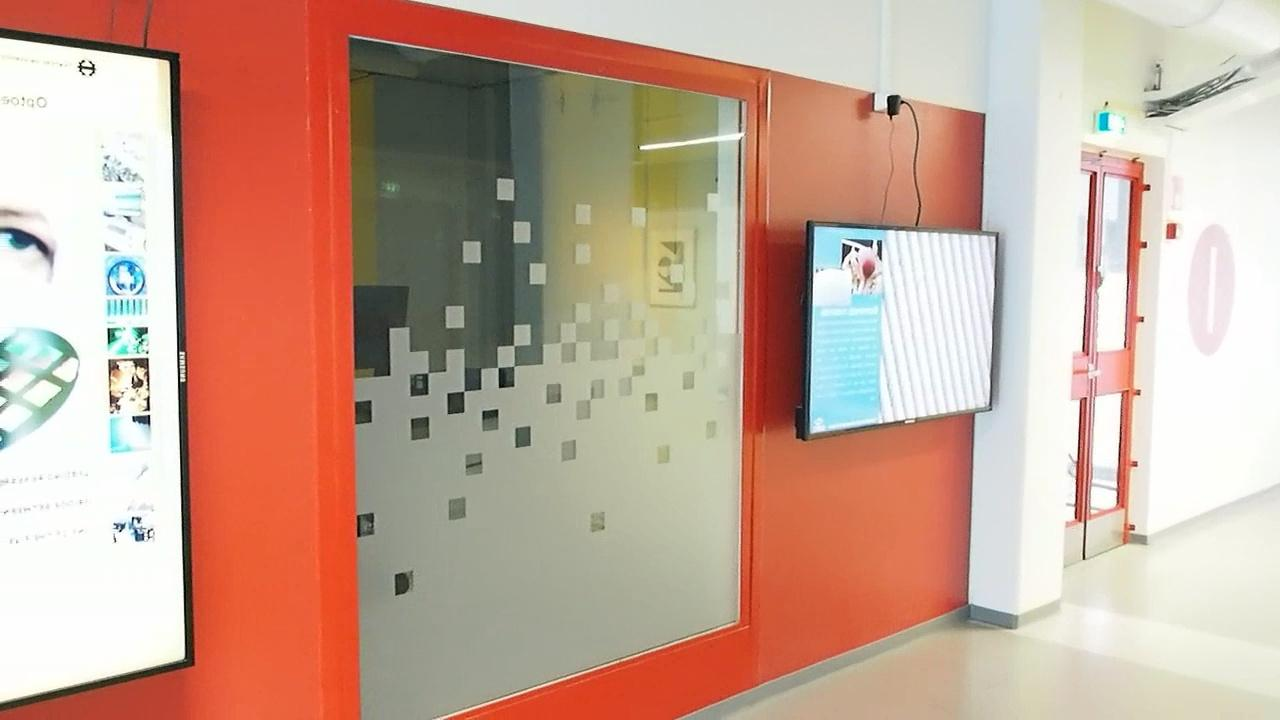screen: (798, 217, 1006, 446)
